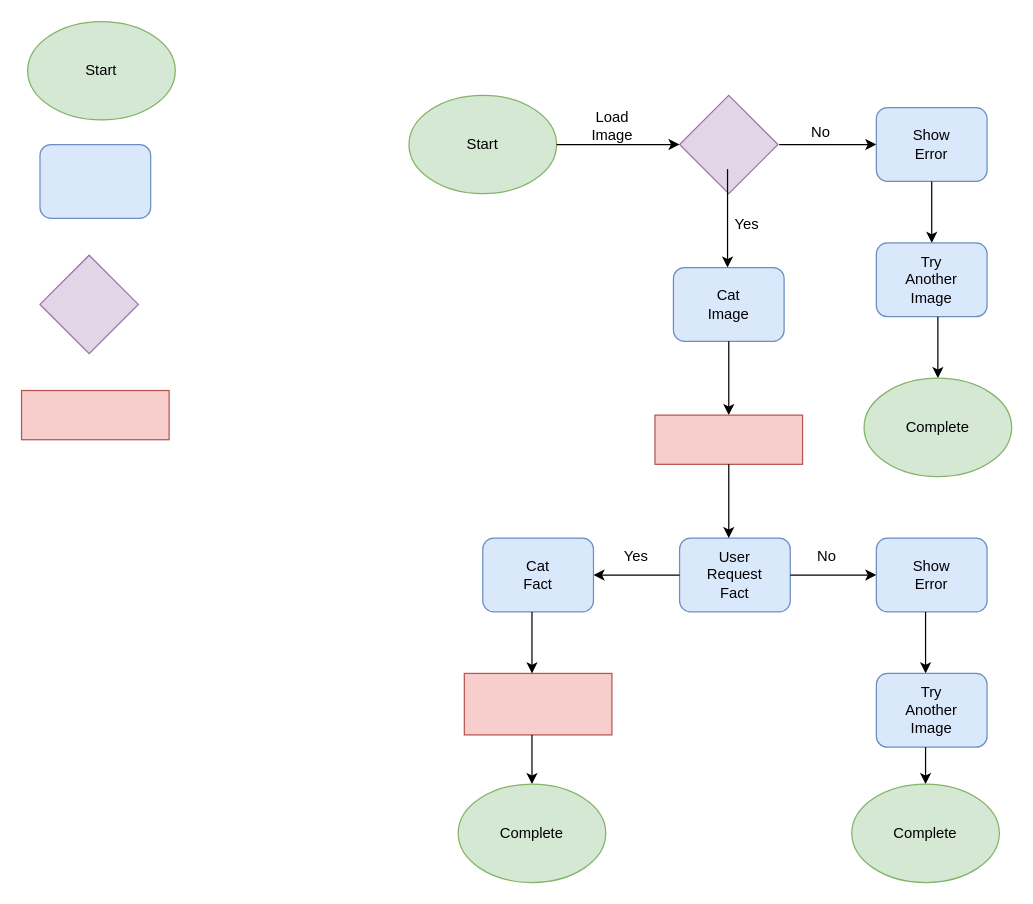
Image size: 1033x904. Some labels were removed from this diagram. The centre of each missing label's shape, as x and y in pixels:
Data: point (94, 414)
Decision: point (88, 304)
Display Cat Fact: point (537, 703)
Display Image: point (728, 439)
Ok?: point (728, 144)
Process: point (95, 180)
